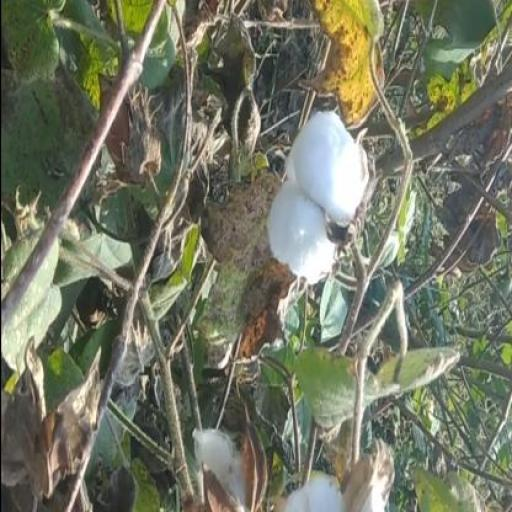cotton_ready: (255, 73, 380, 304)
